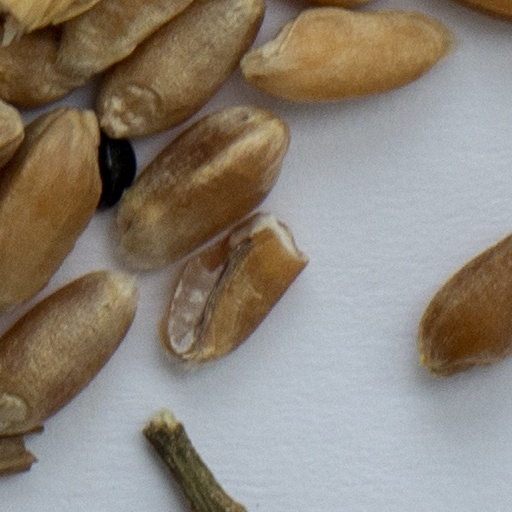Wheat-grain-damaged-poly: (154, 212, 308, 372)
